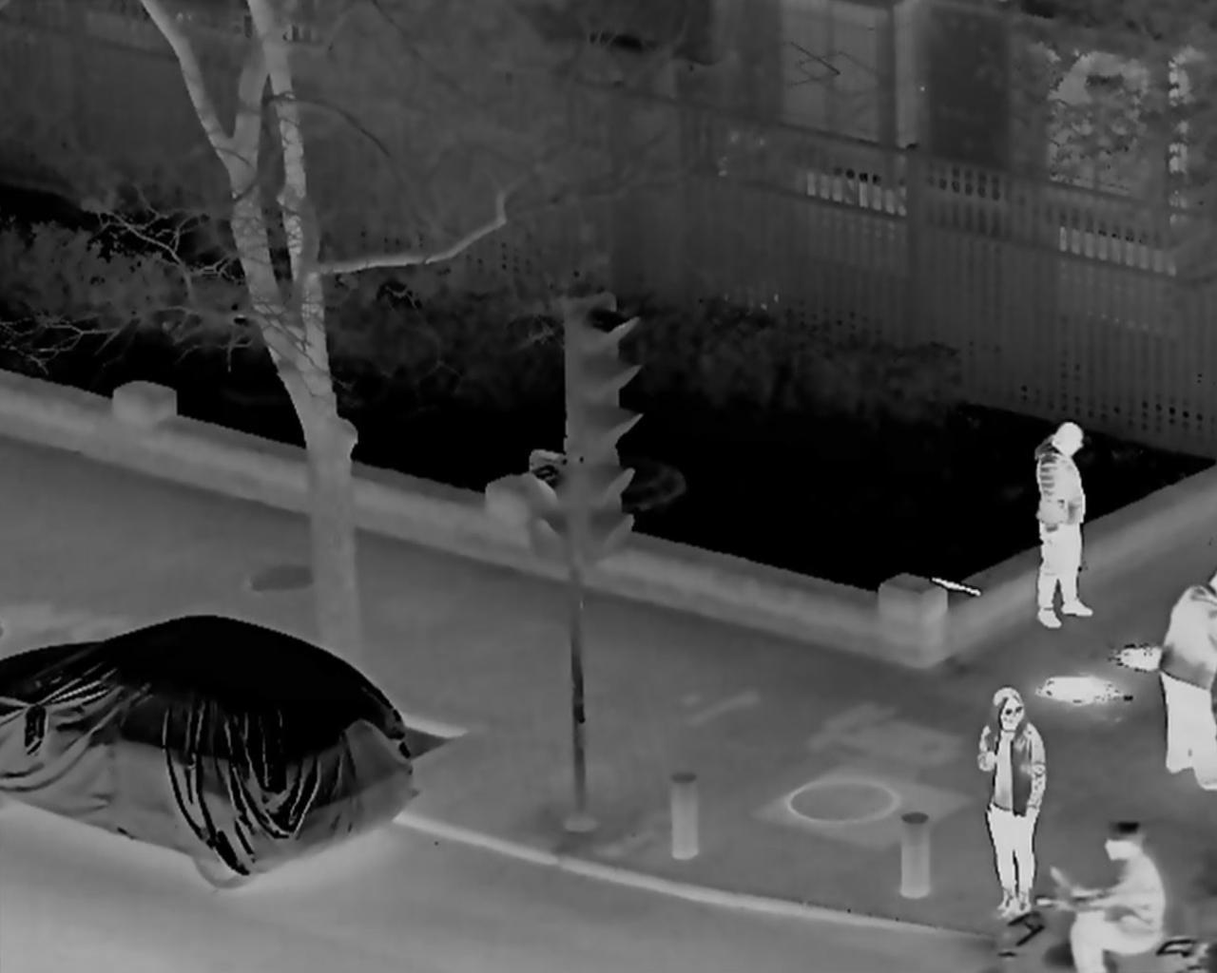person: (1055, 818, 1167, 973), (978, 685, 1038, 918), (1158, 562, 1214, 798), (1033, 421, 1095, 628)
